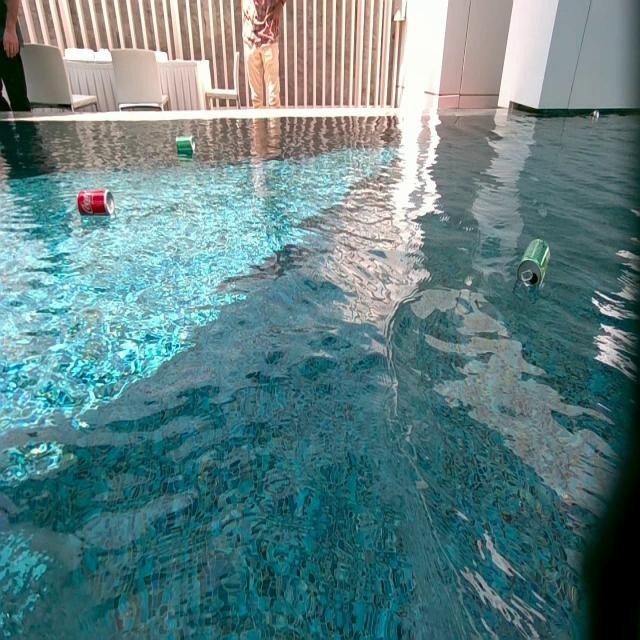Cans: (518, 239, 551, 291), (79, 191, 114, 217), (176, 137, 194, 156), (592, 109, 600, 120)
